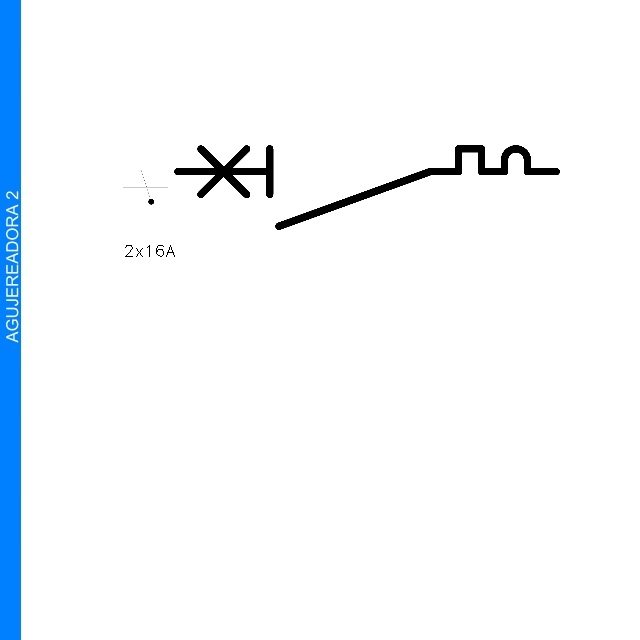interruptor_termomagnetico: (168, 139, 566, 236)
